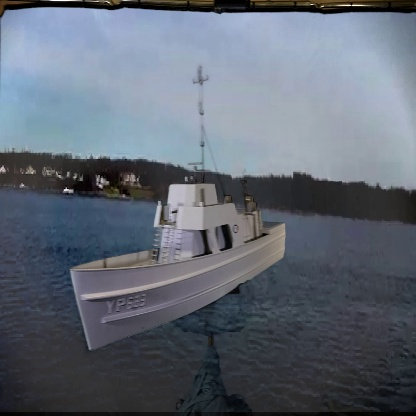YP689: (70, 70, 287, 353)
